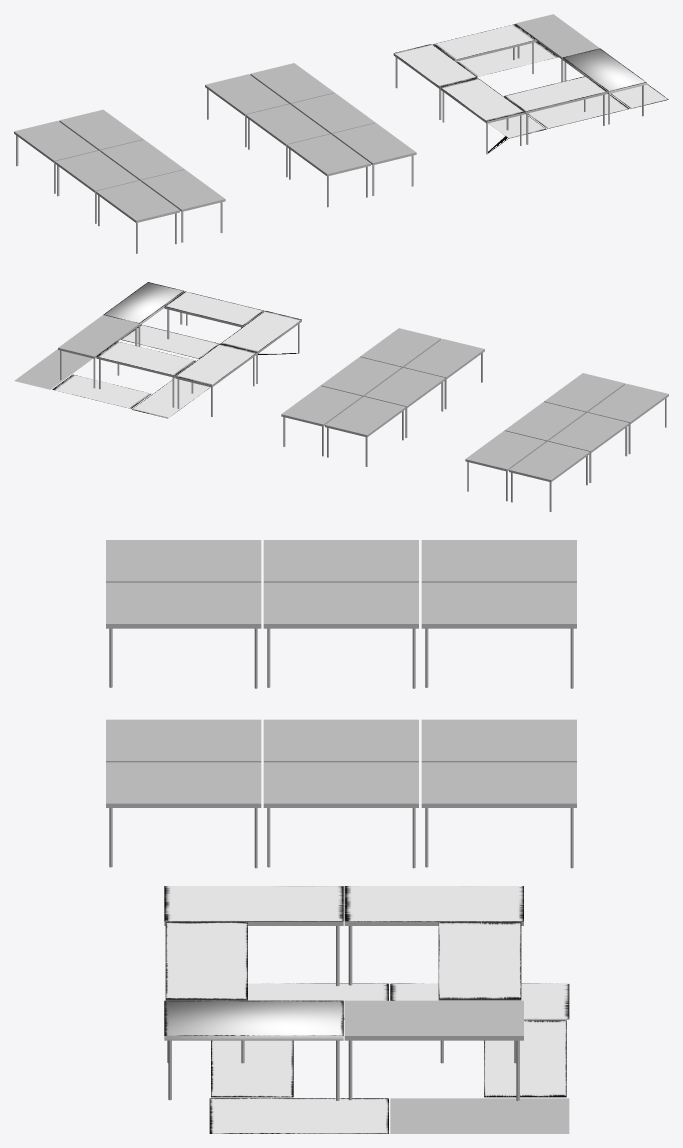
The model's file is mesa.obj.
The picture shows the model from 3 angles, top to bottom: view 1: azimuth 30°, elevation 25°; view 2: azimuth 150°, elevation 25°; view 3: azimuth 270°, elevation 25°; orthographic projection. The views are drawn at different scales.
Visible parts, largest first — view 1: centro_mesaCentro_Cylinder.005, design_design_Cylinder.001, research_research_Cylinder.000, sombras_mesaCentro_Cylinder.001; view 2: centro_mesaCentro_Cylinder.005, research_research_Cylinder.000, design_design_Cylinder.001, sombras_mesaCentro_Cylinder.001; view 3: centro_mesaCentro_Cylinder.005, research_research_Cylinder.000, design_design_Cylinder.001, sombras_mesaCentro_Cylinder.001.
Boxes of the visible parts, left/top/right/bottom form: centro_mesaCentro_Cylinder.005: left=393, top=14, right=646, bottom=154; design_design_Cylinder.001: left=14, top=109, right=225, bottom=253; research_research_Cylinder.000: left=205, top=63, right=416, bottom=207; sombras_mesaCentro_Cylinder.001: left=457, top=41, right=668, bottom=153; centro_mesaCentro_Cylinder.005: left=58, top=282, right=301, bottom=416; research_research_Cylinder.000: left=281, top=328, right=484, bottom=466; design_design_Cylinder.001: left=465, top=373, right=668, bottom=511; sombras_mesaCentro_Cylinder.001: left=14, top=324, right=298, bottom=418; centro_mesaCentro_Cylinder.005: left=164, top=886, right=523, bottom=1100; research_research_Cylinder.000: left=106, top=719, right=576, bottom=868; design_design_Cylinder.001: left=106, top=540, right=576, bottom=688; sombras_mesaCentro_Cylinder.001: left=209, top=983, right=569, bottom=1133.
Size of the model in its own units: 9.19 by 0.5506 by 3.48.
2 materials, 1 textured.
